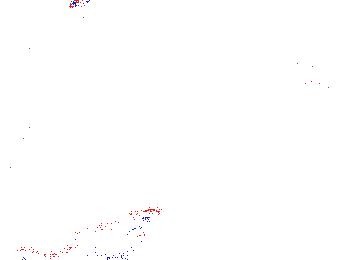red belly glassfish: (68, 1, 92, 12)
redtail glassfish: (47, 197, 171, 260)
